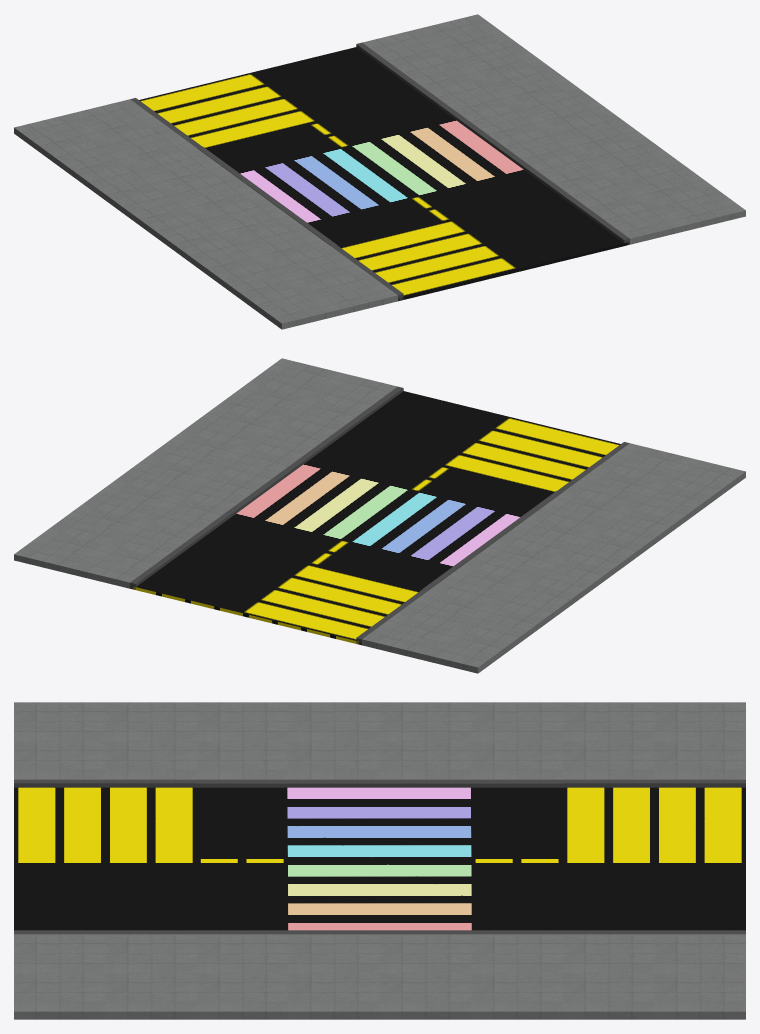
The model's file is RoadCrossing_2x2.fbx.
3 renders of one model, top to bottom at view 1: azimuth 30°, elevation 25°; view 2: azimuth 150°, elevation 25°; view 3: azimuth 270°, elevation 25°, orthographic. The views are drawn at different scales.
Parts seen in each view (by area): view 1: RoadCrossing 2x2.001; view 2: RoadCrossing 2x2.001; view 3: RoadCrossing 2x2.001.
Part boxes in pixels (x1,y1,x2,y2): RoadCrossing 2x2.001: (14,14,745,329); RoadCrossing 2x2.001: (14,358,745,673); RoadCrossing 2x2.001: (14,702,745,1019).
Bounding box in the file's own units: 16 × 0.2 × 16.
